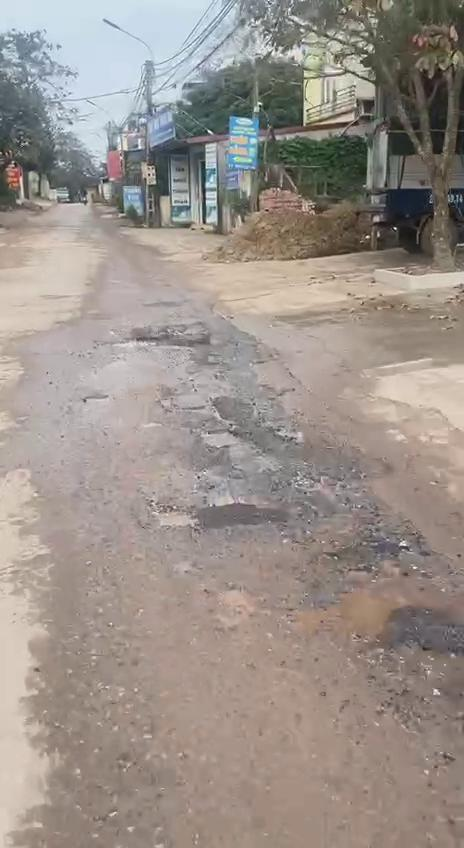pothole: (275, 561, 464, 711), (127, 484, 374, 544), (193, 428, 314, 514), (159, 386, 300, 454), (123, 326, 216, 362), (200, 580, 262, 632)
